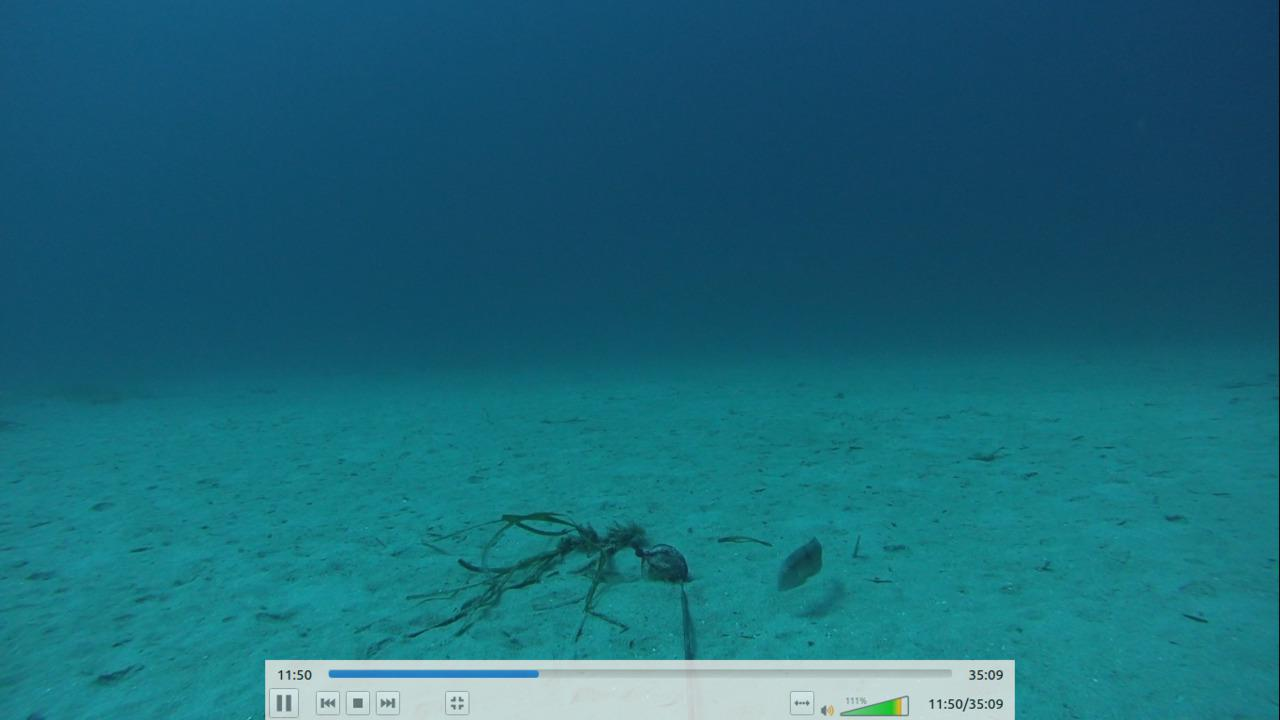raor: (772, 534, 826, 594)
